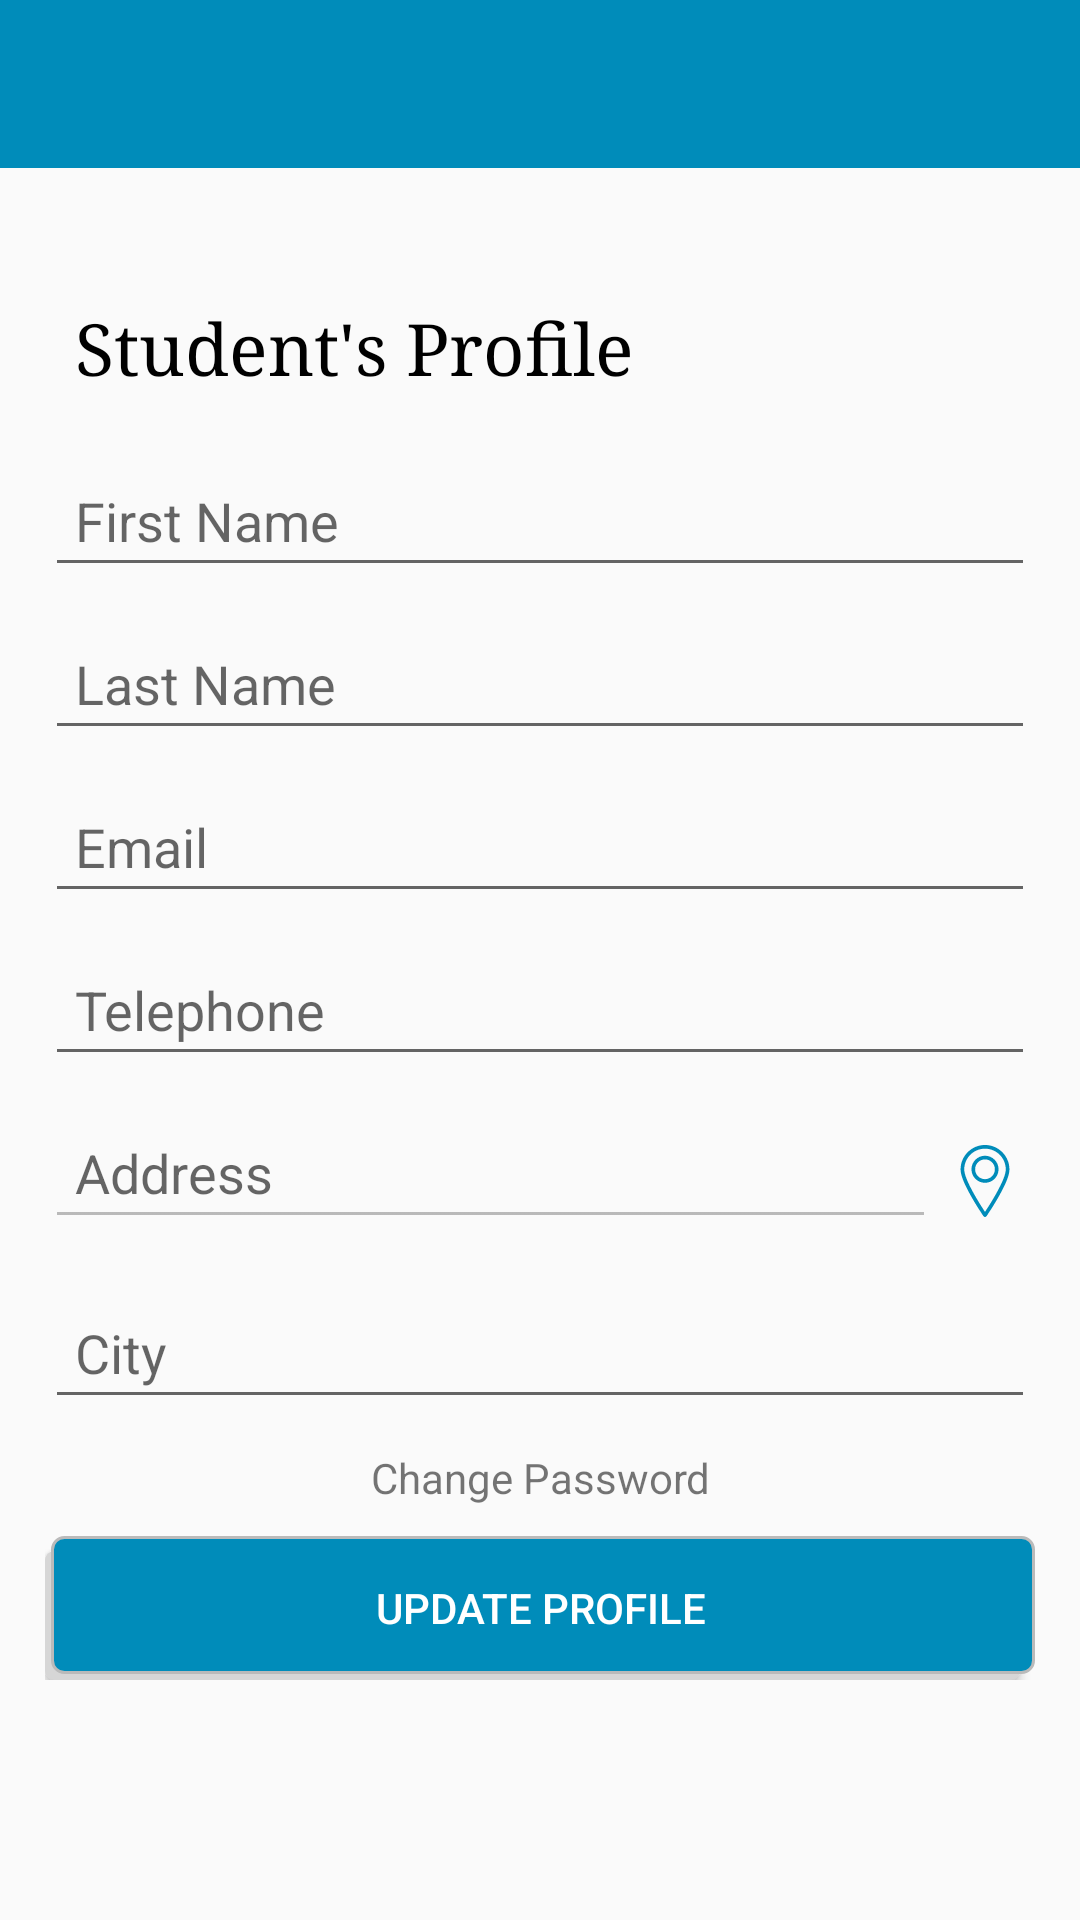

Where icons sit on this 1080w x 1920h app screen, as (x1, y1, x2, y2):
location: (960, 1145, 1010, 1217)
